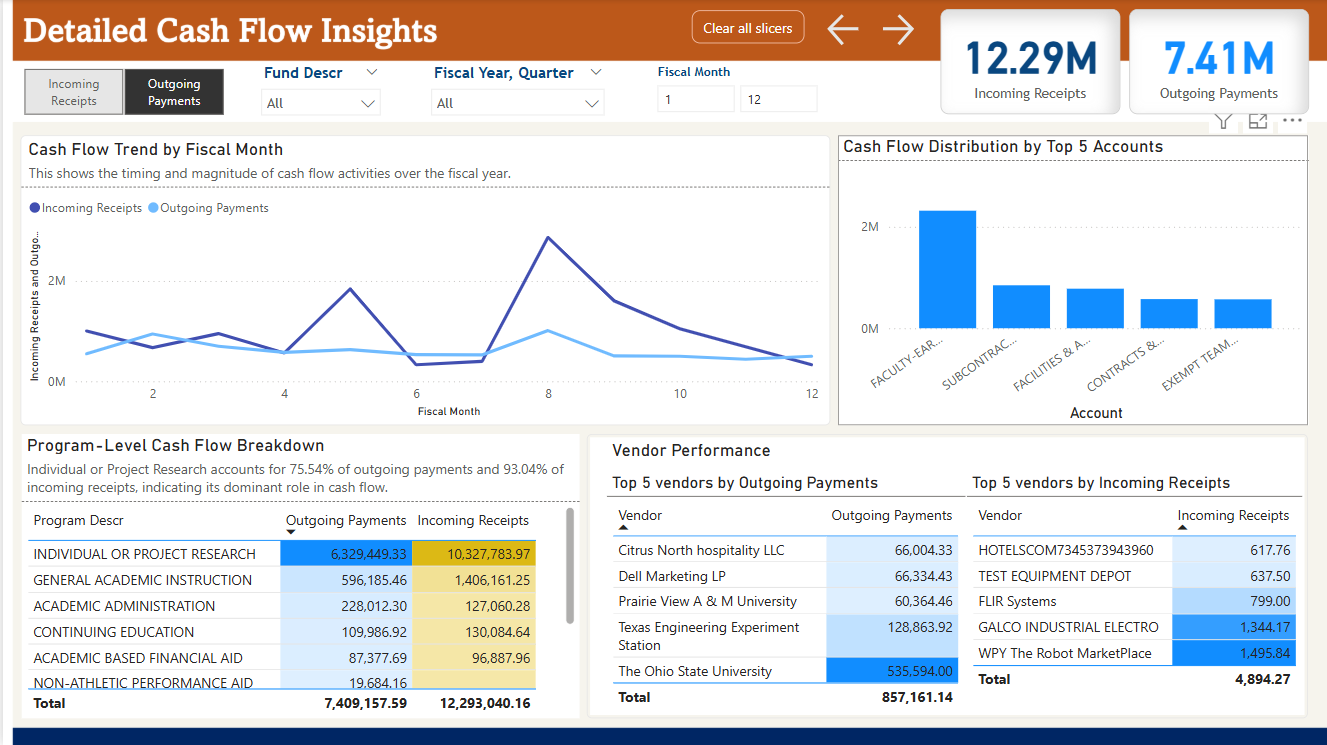

The page's visual inventory and layout, read from the dashboard file:
{"tool":"powerbi","page":{"name":"Detailed Cash Flow Insights: Trends, Programs, Funds, and Vendors","canvas":[1280,720],"ordinal":5},"visuals":[{"type":"shape","box":[564,420.3,696,274.6],"z":0},{"type":"lineChart","title":"Cash Flow Trend by Fiscal Month","fields":{"Category":["DateTable.Fiscal Month","DateTable.Date"],"Y":["Measure.Incoming Receipts","Measure.Outgoing Payments"]},"box":[16.9,131,781.5,279.9],"z":1000},{"type":"tableEx","title":"Top 5 vendors by Outgoing Payments","fields":{"Values":["Comprehensive_Table.Vendor"," Measures.Total Credited"]},"box":[582.8,457.6,346.4,239.7],"z":2000},{"type":"tableEx","title":"Top 5 vendors by Incoming Receipts","fields":{"Values":["Comprehensive_Table.Vendor"," Measures.Total Debited"]},"box":[930.4,457.3,324.2,240.2],"z":3000},{"type":"clusteredColumnChart","title":"Cash Flow Distribution by Top 5  Accounts","fields":{"Y":["Measure.Cash Flow Measure selector"],"Category":["Comprehensive_Table.Account Desc"]},"box":[805.8,131,454.1,279.9],"z":4000},{"type":"tableEx","title":"Program-Level Cash Flow Breakdown","fields":{"Values":["Comprehensive_Table.Program Descr","Measure.Outgoing Payments","Measure.Incoming Receipts"]},"box":[18,420.3,538.6,274.6],"z":5000},{"type":"slicer","fields":{"Values":["DateTable.Fiscal Year","DateTable.Fiscal Quarter"]},"box":[402.6,58,188,60],"z":6000},{"type":"slicer","fields":{"Values":["DateTable.Fiscal Month"]},"box":[618.9,58,178.5,60],"z":7000},{"type":"slicer","fields":{"Values":["Comprehensive_Table.Fund Descr"]},"box":[238.7,58,135.7,60],"z":8000},{"type":"actionButton","box":[843.8,9.5,48.6,40.1],"z":12000},{"type":"actionButton","box":[791,9.5,45.4,40.1],"z":13000},{"type":"actionButton","box":[665.3,10.6,108.8,31.7],"z":14000},{"type":"textbox","box":[583,420.3,299.9,37],"z":15000},{"type":"card","fields":{"Values":[" Measures.Incoming Receipts"]},"box":[905.2,9.4,173.6,101.8],"z":16000},{"type":"card","fields":{"Values":[" Measures.Outgoing Payments"]},"box":[1087.1,9.4,173.6,101.8],"z":17000},{"type":"slicer","title":"cash flow ","fields":{"Values":["Cash Flow Slicer.Cash Flow Slicer"]},"box":[0,64.8,231.7,48],"z":18000}]}

Visuals, with their boxes in screenshot pixels (x1, y1, x2, y2), scaled from the page's 1280x720 canvas onto the 1327x745 screenshot:
shape: box(585, 435, 1306, 719)
"Cash Flow Trend by Fiscal Month" lineChart: box(18, 136, 828, 425)
"Top 5 vendors by Outgoing Payments" tableEx: box(604, 473, 963, 722)
"Top 5 vendors by Incoming Receipts" tableEx: box(965, 473, 1301, 722)
"Cash Flow Distribution by Top 5  Accounts" clusteredColumnChart: box(835, 136, 1306, 425)
"Program-Level Cash Flow Breakdown" tableEx: box(19, 435, 577, 719)
slicer - DateTable.Fiscal Year x DateTable.Fiscal Quarter: box(417, 60, 612, 122)
slicer - DateTable.Fiscal Month: box(642, 60, 827, 122)
slicer - Comprehensive_Table.Fund Descr: box(247, 60, 388, 122)
actionButton: box(875, 10, 925, 51)
actionButton: box(820, 10, 867, 51)
actionButton: box(690, 11, 803, 44)
textbox: box(604, 435, 915, 473)
card -  Measures.Incoming Receipts: box(938, 10, 1118, 115)
card -  Measures.Outgoing Payments: box(1127, 10, 1307, 115)
"cash flow " slicer: box(0, 67, 240, 117)
